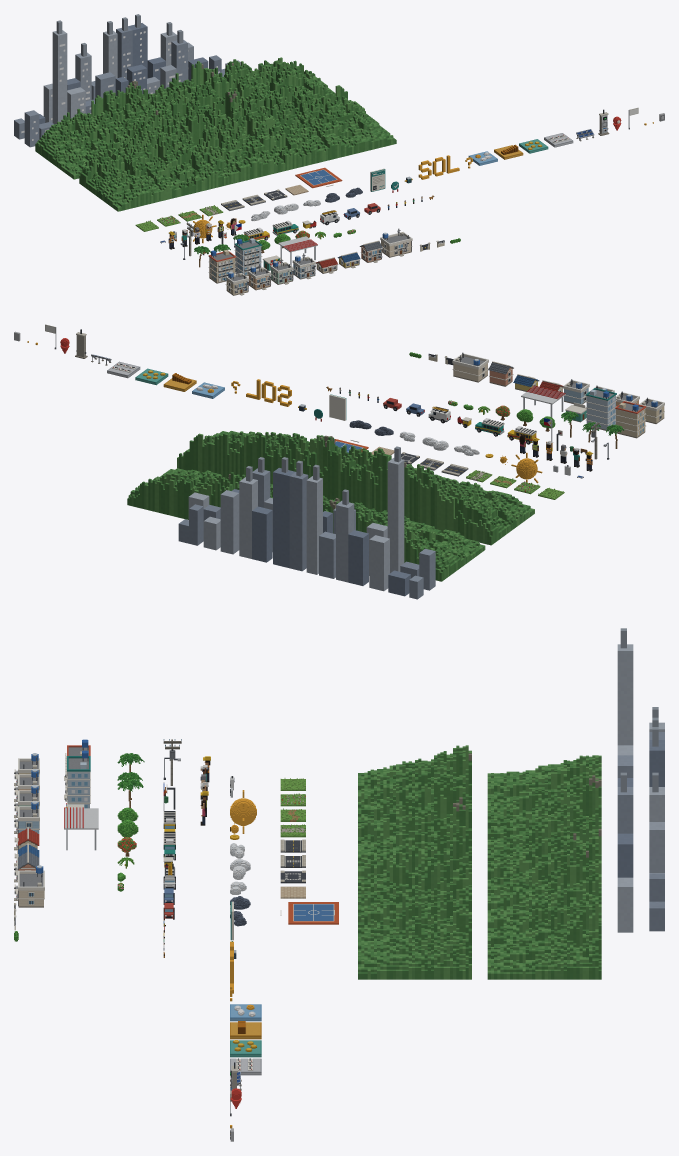
The model's file is kit.glb.
The picture shows the model from 3 angles, top to bottom: view 1: azimuth 30°, elevation 25°; view 2: azimuth 150°, elevation 25°; view 3: azimuth 270°, elevation 25°; orthographic projection. The views are drawn at different scales.
Visible parts, largest first — view 1: hills_a, hills_b, skyline_a, skyline_b, midrise_b, midrise_a, house_hero, court, word_sol, house_c, house_a, house_b (+2 smaller); view 2: hills_a, skyline_b, hills_b, skyline_a, midrise_b, midrise_a, house_hero, pavilion, word_sol, house_d, house_g, house_a (+2 smaller); view 3: hills_a, hills_b, skyline_a, skyline_b, midrise_b, court, house_hero, pavilion.
Part boxes in pixels (<box>): hills_a: <box>79,84,396,211</box>; hills_b: <box>35,57,335,179</box>; skyline_a: <box>24,20,240,147</box>; skyline_b: <box>14,14,224,139</box>; midrise_b: <box>234,238,262,276</box>; midrise_a: <box>208,250,236,283</box>; house_hero: <box>380,228,412,257</box>; court: <box>295,167,342,188</box>; word_sol: <box>418,155,459,179</box>; house_c: <box>270,259,293,284</box>; house_a: <box>225,270,248,295</box>; house_b: <box>248,264,271,290</box>; hills_a: <box>177,431,534,545</box>; skyline_b: <box>178,457,423,599</box>; hills_b: <box>127,468,485,581</box>; skyline_a: <box>188,446,435,590</box>; midrise_b: <box>585,388,616,430</box>; midrise_a: <box>615,401,646,438</box>; house_hero: <box>452,352,488,382</box>; pavilion: <box>521,385,565,417</box>; word_sol: <box>246,379,291,406</box>; house_d: <box>563,379,589,404</box>; house_g: <box>488,361,513,386</box>; house_a: <box>639,397,664,423</box>; hills_a: <box>358,745,471,979</box>; hills_b: <box>487,755,601,979</box>; skyline_a: <box>617,628,633,932</box>; skyline_b: <box>649,707,664,931</box>; midrise_b: <box>64,750,90,808</box>; court: <box>280,902,338,924</box>; house_hero: <box>14,865,44,907</box>; pavilion: <box>64,807,98,850</box>.
Size of the model in its own units: 1085 by 269 by 823.
